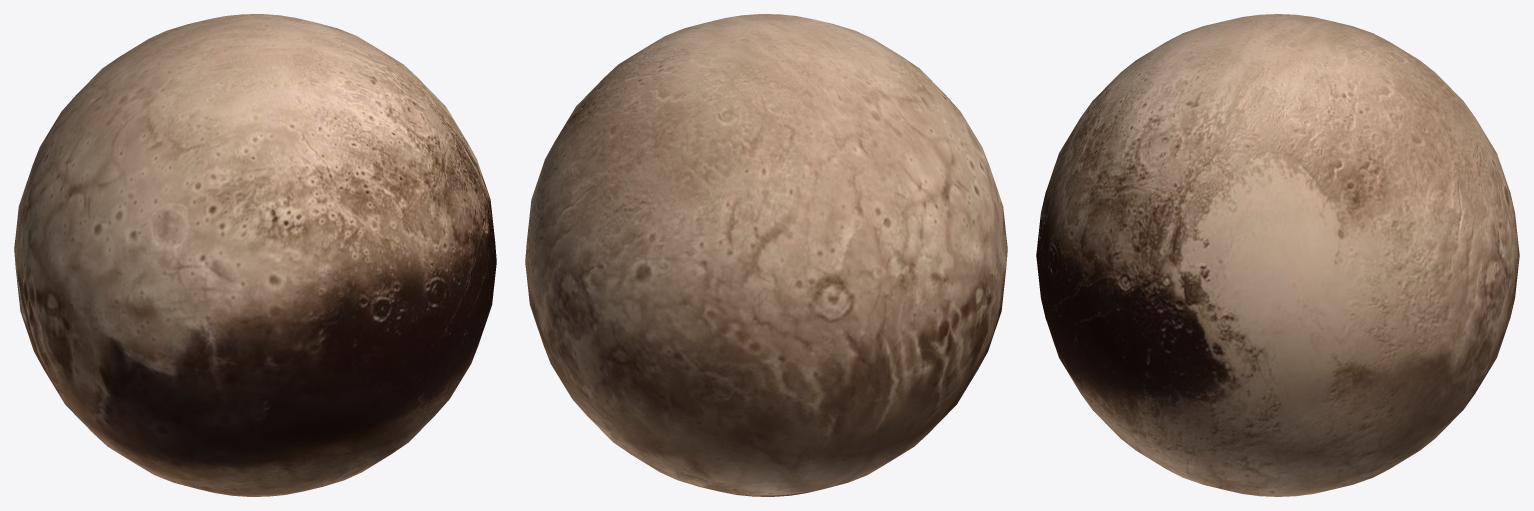
Rendered from pluton.glb.
The picture shows the model from 3 angles, left to right: view 1: azimuth 30°, elevation 25°; view 2: azimuth 150°, elevation 25°; view 3: azimuth 270°, elevation 25°; orthographic projection.
Parts seen in each view (by area): view 1: Material_001-material; view 2: Material_001-material; view 3: Material_001-material.
Boxes of the visible parts, x1,y1,x2,y2 form: Material_001-material: (14, 14, 496, 496); Material_001-material: (525, 14, 1007, 496); Material_001-material: (1036, 14, 1519, 496).
Size of the model in its own units: 2 by 2 by 2.
Materials: 1 (1 with a texture image).
